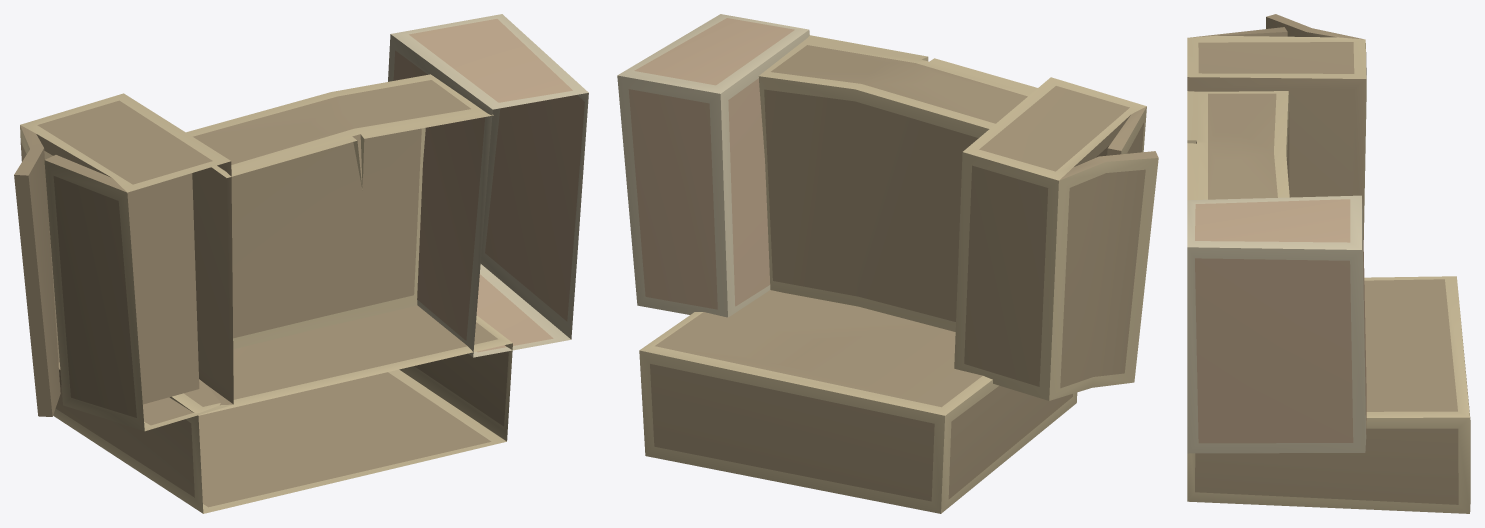
File: BoxChair.fbx
3 views of the same model, side by side, from view 1: azimuth 30°, elevation 25°; view 2: azimuth 150°, elevation 25°; view 3: azimuth 270°, elevation 25° (orthographic). The views are drawn at different scales.
Visible parts, largest first — view 1: BoxChair; view 2: BoxChair; view 3: BoxChair.
Boxes of the visible parts, x1,y1,x2,y2 form: BoxChair: [14, 14, 588, 513]; BoxChair: [617, 14, 1158, 513]; BoxChair: [1187, 14, 1470, 513].
Bounding box in the file's own units: 156 × 100 × 81.25.
